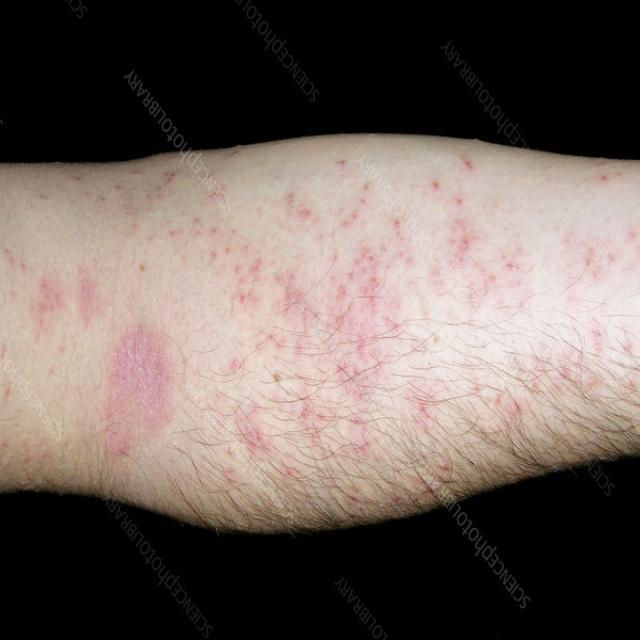Eczema: (50, 156, 624, 458)
